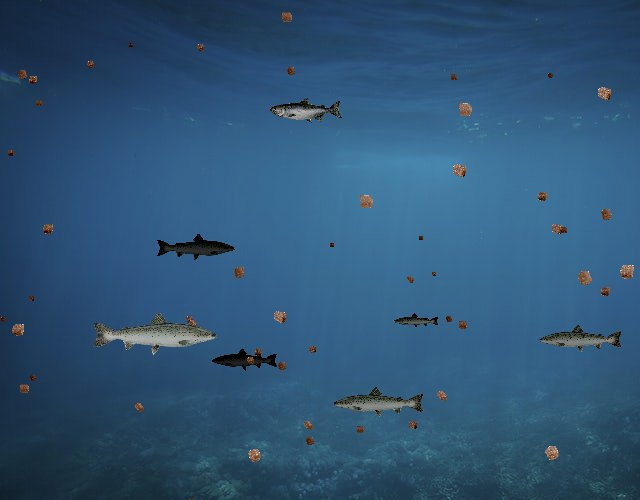Fish: (90, 310, 219, 356), (332, 385, 426, 419), (538, 323, 624, 354), (156, 233, 237, 262), (270, 98, 343, 124), (211, 348, 279, 372), (394, 313, 441, 330)
Pellet: (612, 256, 640, 287), (240, 441, 268, 469), (266, 304, 293, 331), (12, 64, 33, 85), (82, 57, 98, 73), (544, 70, 557, 83), (25, 292, 37, 304)
